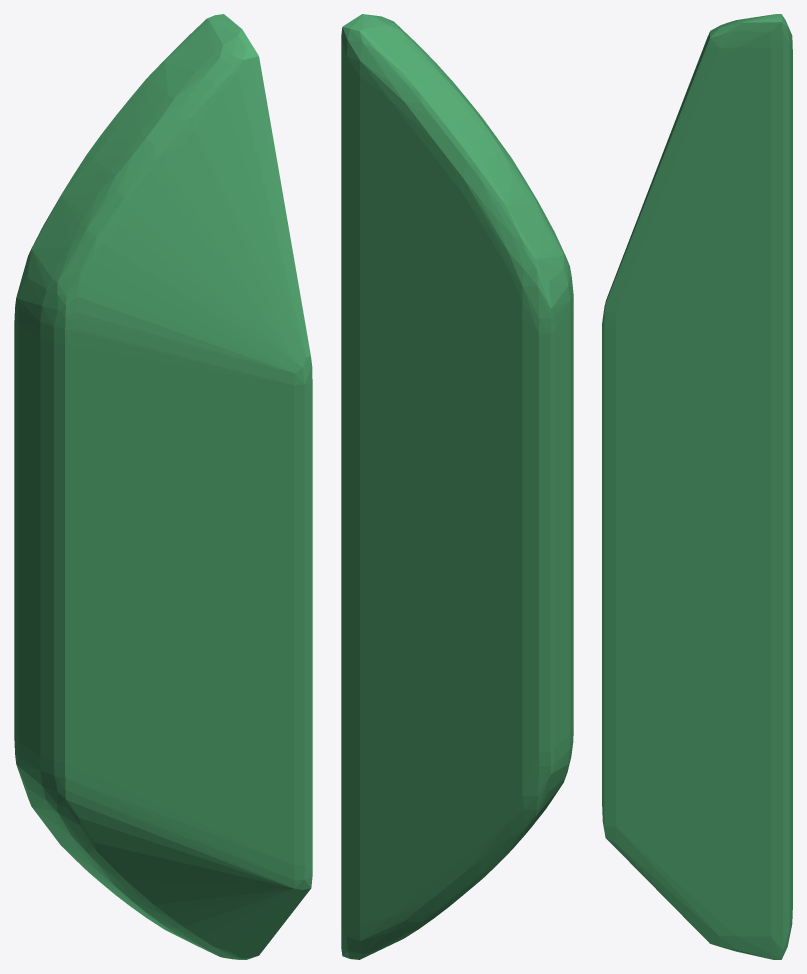
Rendered from right_forearm_1_part_3.obj.
The picture shows the model from 3 angles, left to right: view 1: azimuth 30°, elevation 25°; view 2: azimuth 150°, elevation 25°; view 3: azimuth 270°, elevation 25°; orthographic projection.
Bounding box in the file's own units: 27.12 × 114 × 21.08.
